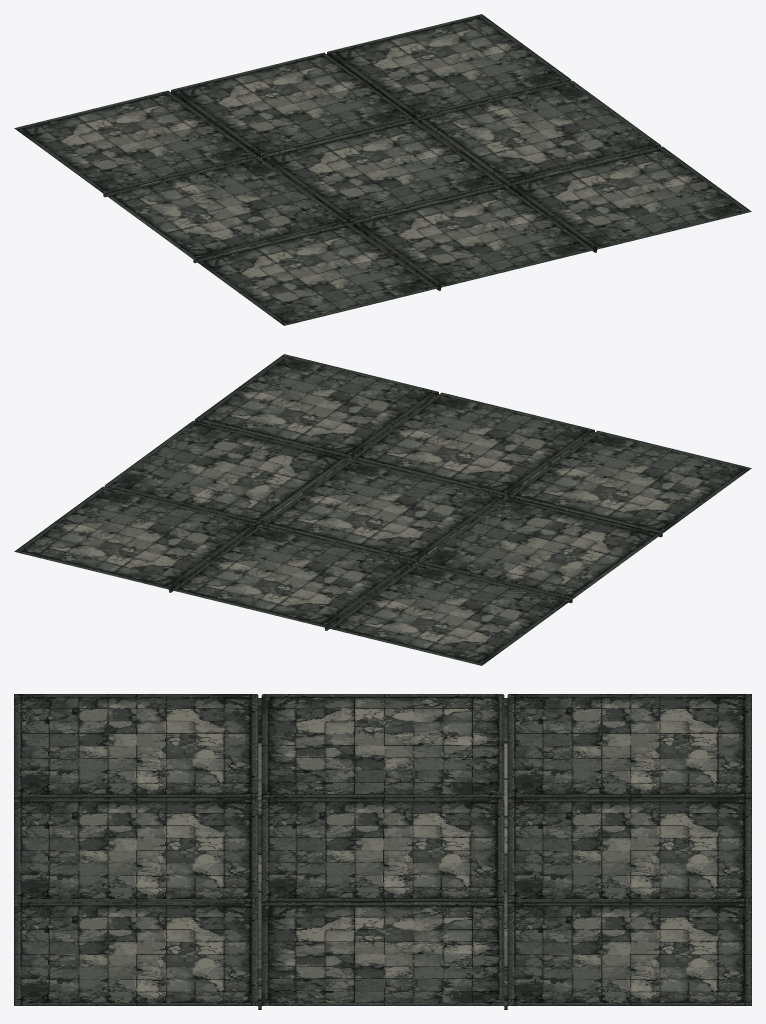
Rendered from Piso cuadrado.fbx.
3 views of the same model, one above another, from view 1: azimuth 30°, elevation 25°; view 2: azimuth 150°, elevation 25°; view 3: azimuth 270°, elevation 25° (orthographic). The views are drawn at different scales.
Visible parts, largest first — view 1: piso_cuadrados; view 2: piso_cuadrados; view 3: piso_cuadrados.
Boxes of the visible parts, x1,y1,x2,y2 form: piso_cuadrados: (14,14,751,325); piso_cuadrados: (14,354,751,665); piso_cuadrados: (14,694,751,1009).
Bounding box in the file's own units: 200 × 1.15 × 200.
